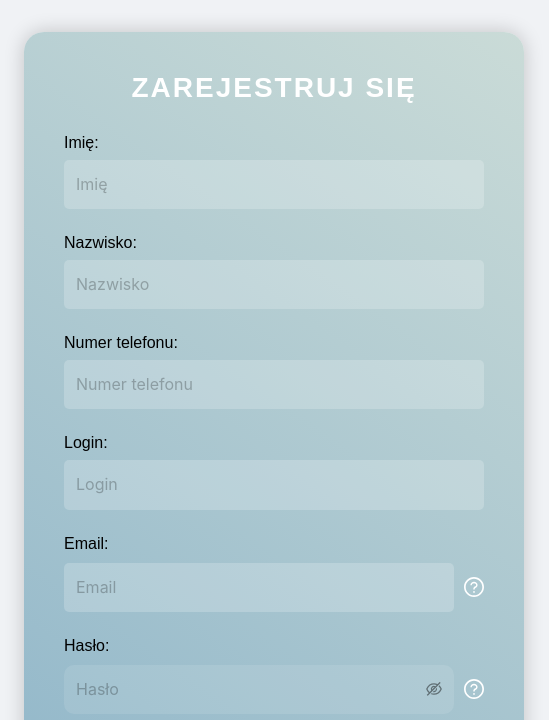
Test: Register Component › displays an error when the phone number is not 9 digits
Fill in all other fields with valid data
Type "Jan" into the field labelled "Imię:" at (274, 185), box [64,160,484,209]
Type "Kowalski" into the field labelled "Nazwisko:" at (274, 285), box [64,260,484,309]
Type "jkowalski" into the field labelled "Login:" at (274, 485), box [64,460,484,510]
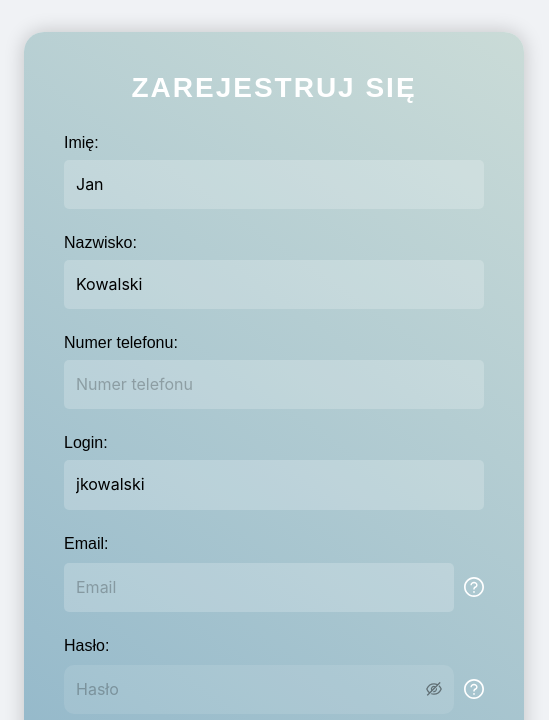
Type "jan@example.com" into the field labelled "Email:" at (259, 587), box [64,563,454,612]
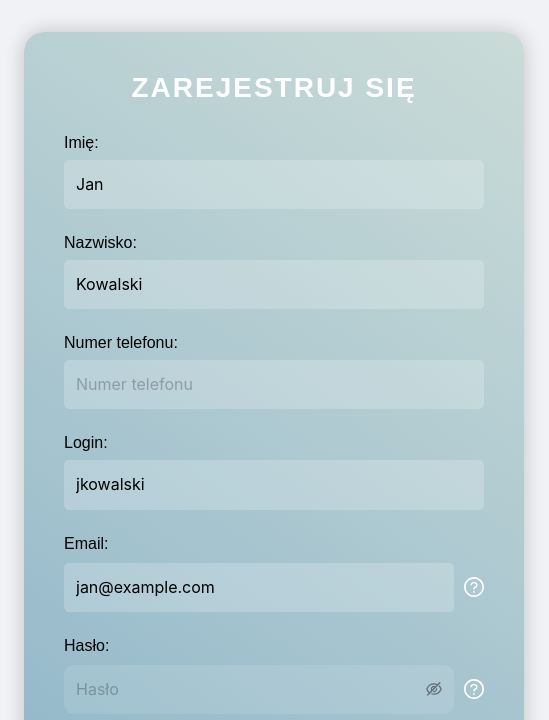
Type "Password123!" into the password field labelled "Hasło:" at (249, 689), box [76,677,422,702]
(page scrolled)
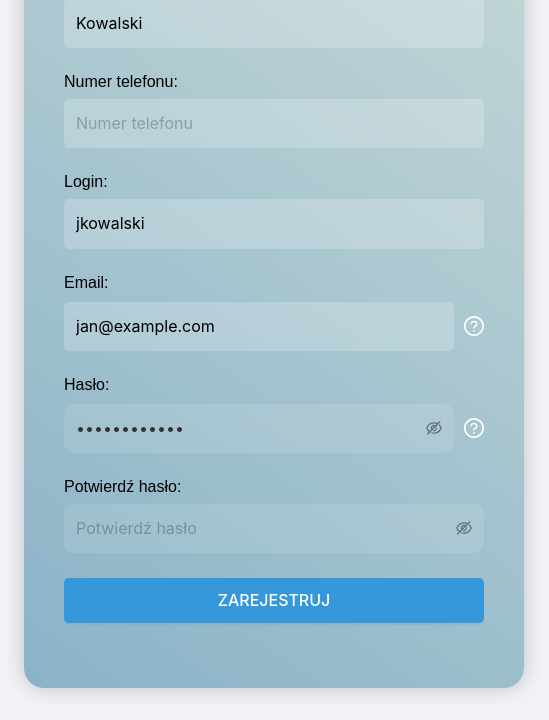
Type "Password123!" into the password field labelled "Potwierdź hasło:" at (264, 528), box [76,516,452,541]
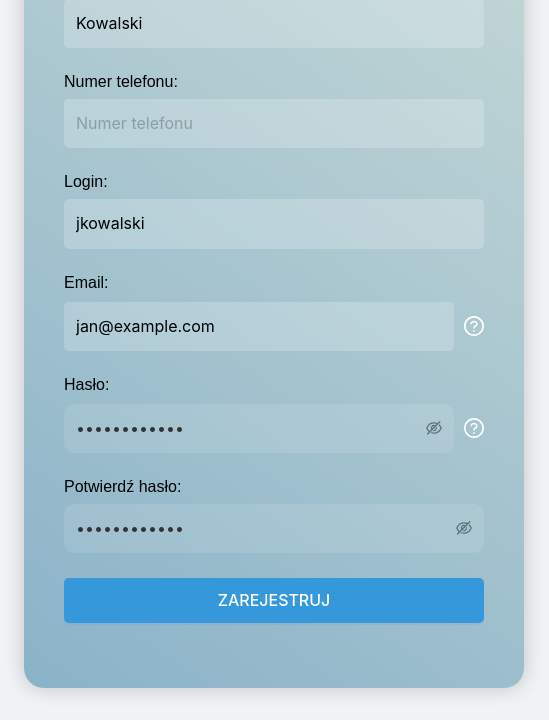
Test the phone number field specifically
Type "12345" into the field labelled "Numer telefonu:" at (274, 124), box [64,99,484,148]
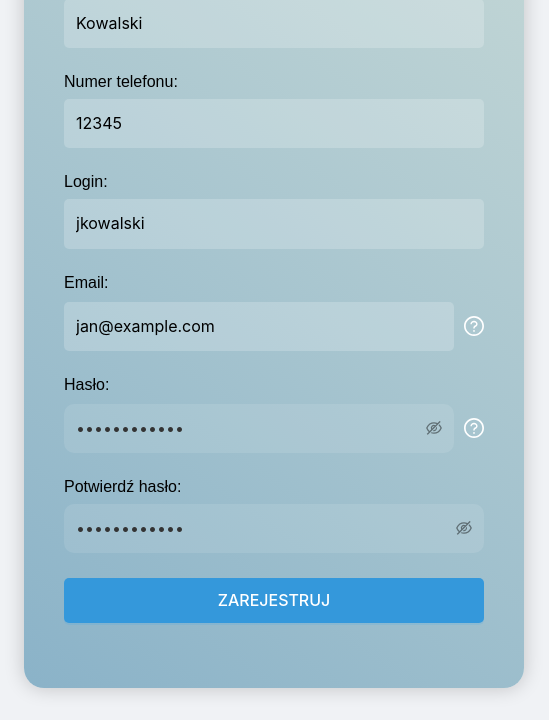
Click the button "Zarejestruj" at (274, 600), box [64,578,484,623]
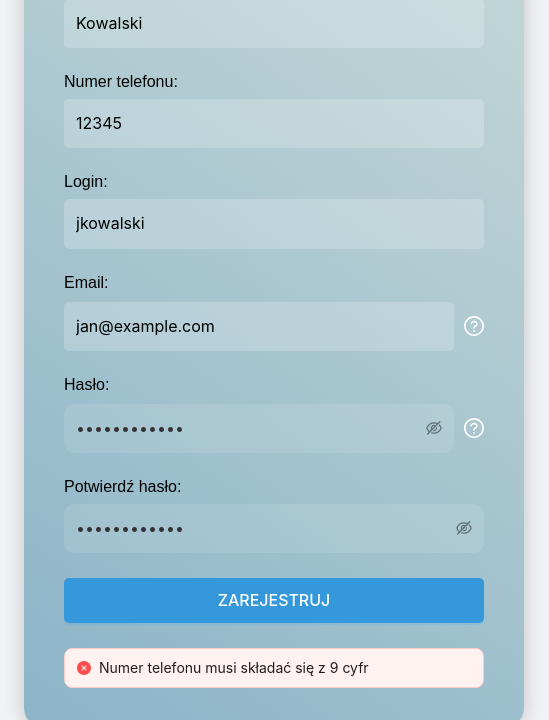
Check: the text "Numer telefonu musi składać się z 9 cyfr" is shown, box [99,659,369,676]
